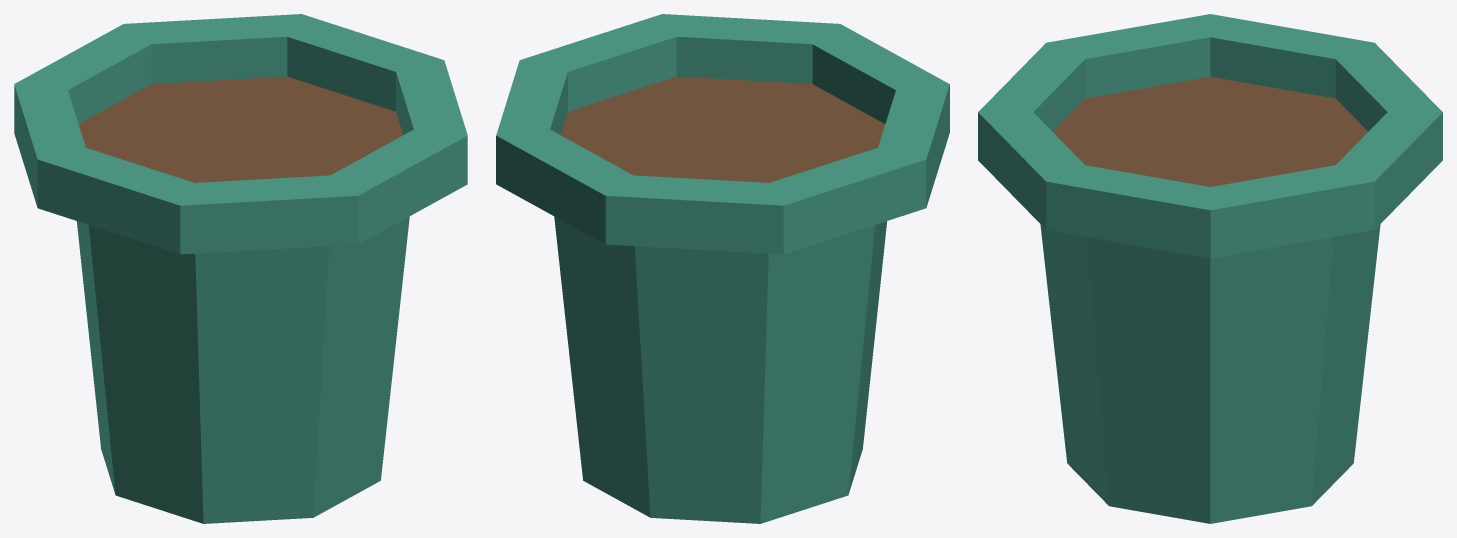
The model's file is Pot_2.fbx.
3 renders of one model, left to right at view 1: azimuth 30°, elevation 25°; view 2: azimuth 150°, elevation 25°; view 3: azimuth 270°, elevation 25°, orthographic.
Parts seen in each view (by area): view 1: Pot_2; view 2: Pot_2; view 3: Pot_2.
Part boxes in pixels (left/top/right/bottom): Pot_2: left=14, top=14, right=467, bottom=523; Pot_2: left=496, top=14, right=949, bottom=523; Pot_2: left=978, top=14, right=1442, bottom=523.
Size of the model in its own units: 20.61 by 20.61 by 17.19.
